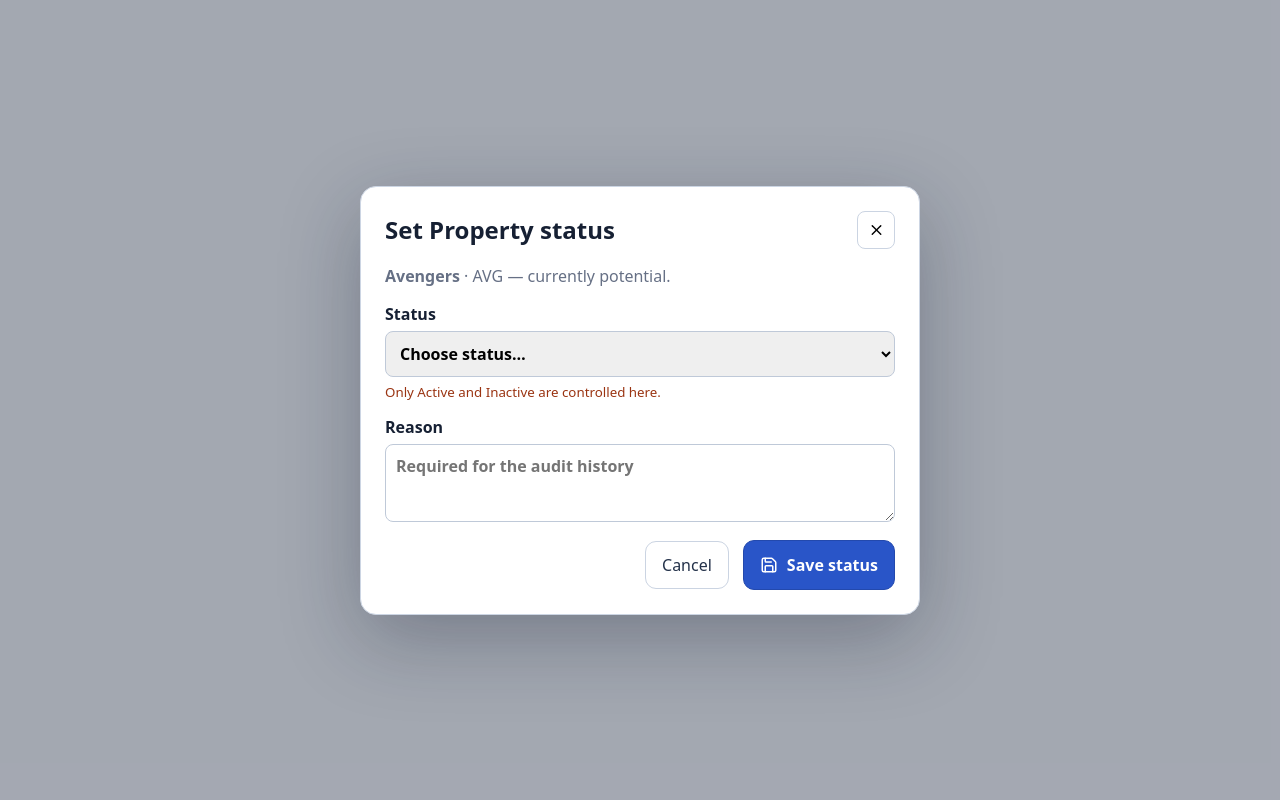
Test: PropertyStatusDialog › requires an explicit choice for a potential Property
The width and height of the screenshot is (1280, 800).
Type "Owner decision" into the text box labelled "Reason" at [640, 482], box [385, 444, 895, 522]
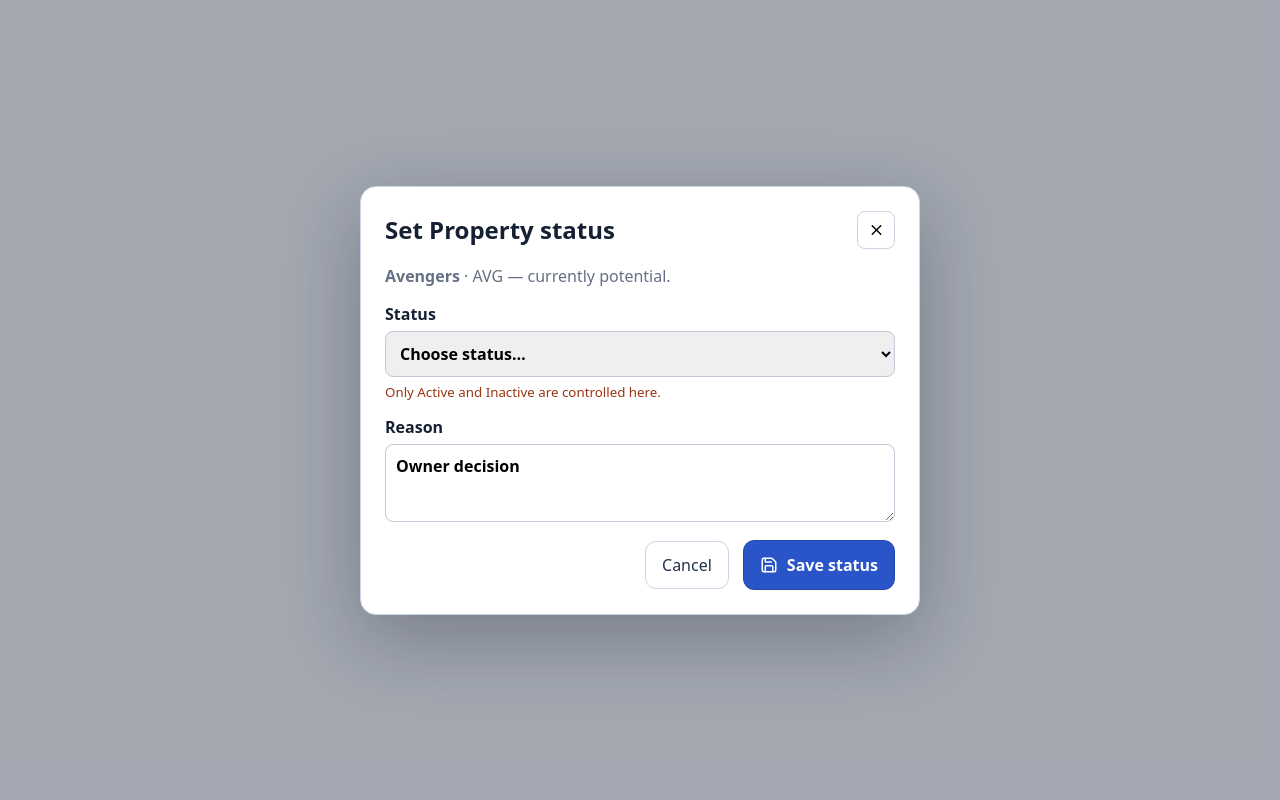
Click the button "Save status" at [819, 564], box [743, 540, 895, 590]
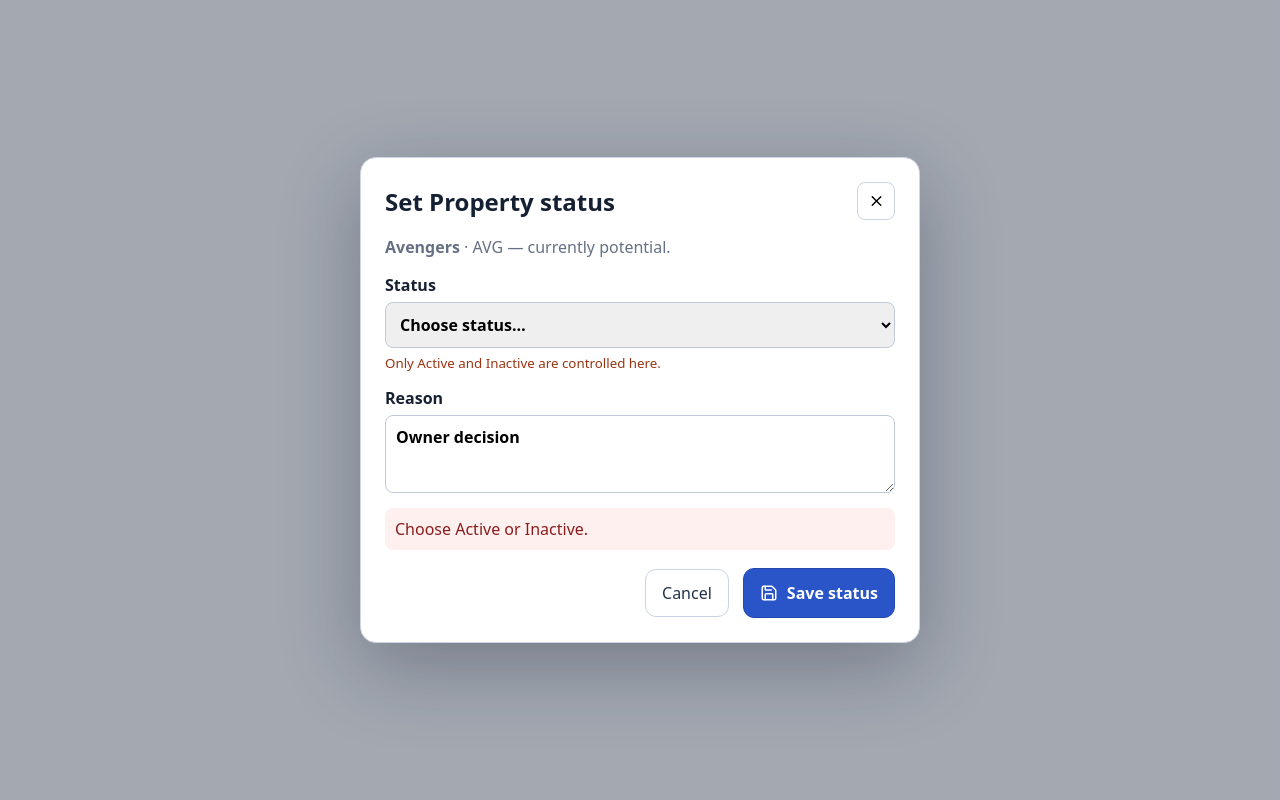
Check: the message reads "Choose Active or Inactive.", box [395, 518, 588, 540]
